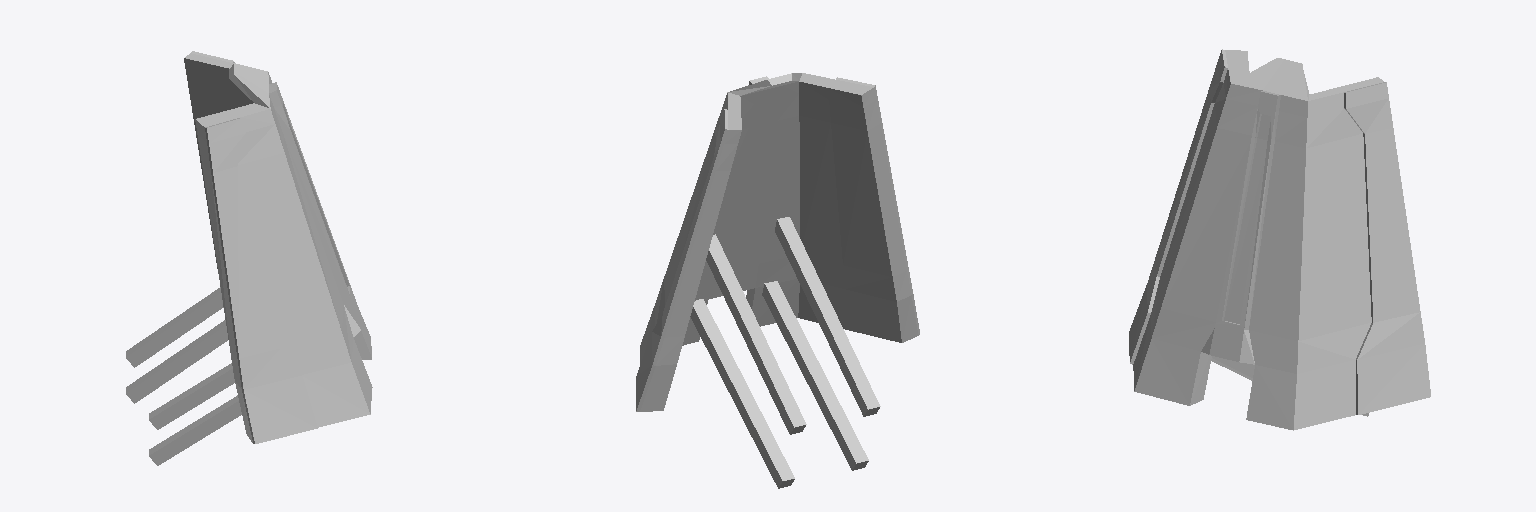
File: Base_Shell.obj
3 views of the same model, side by side, from view 1: azimuth 30°, elevation 25°; view 2: azimuth 150°, elevation 25°; view 3: azimuth 270°, elevation 25° (orthographic).
Parts seen in each view (by area): view 1: polySurface23; view 2: polySurface23; view 3: polySurface23.
Boxes of the visible parts, x1,y1,x2,y2 form: polySurface23: [126, 51, 372, 465]; polySurface23: [636, 73, 919, 488]; polySurface23: [1129, 49, 1430, 430].
Size of the model in its own units: 5.77 by 8.5 by 6.22.